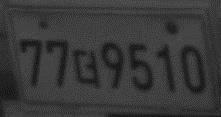0: (179, 44, 207, 94)
1: (154, 41, 181, 94)
5: (126, 41, 155, 89)
7: (17, 37, 44, 88), (44, 38, 70, 89)
9: (100, 41, 126, 90)
더: (72, 47, 102, 91)
